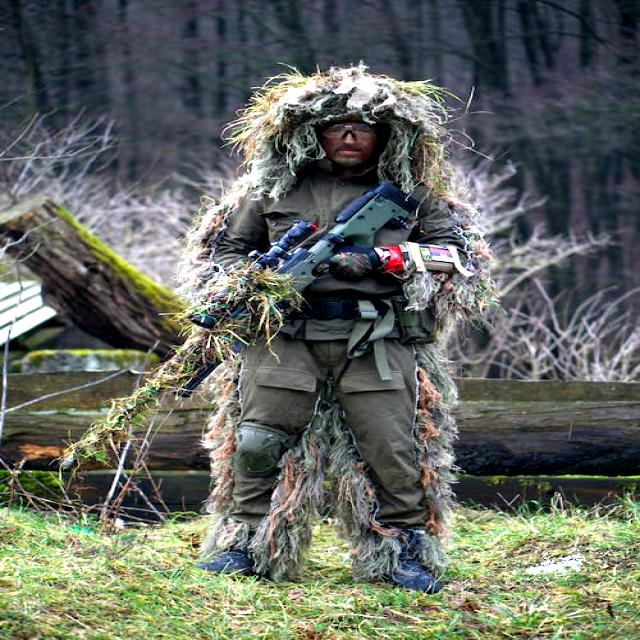rifle: (70, 178, 438, 466)
